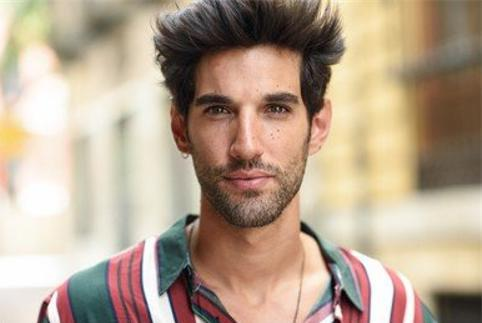Sober: (191, 52, 307, 204)
